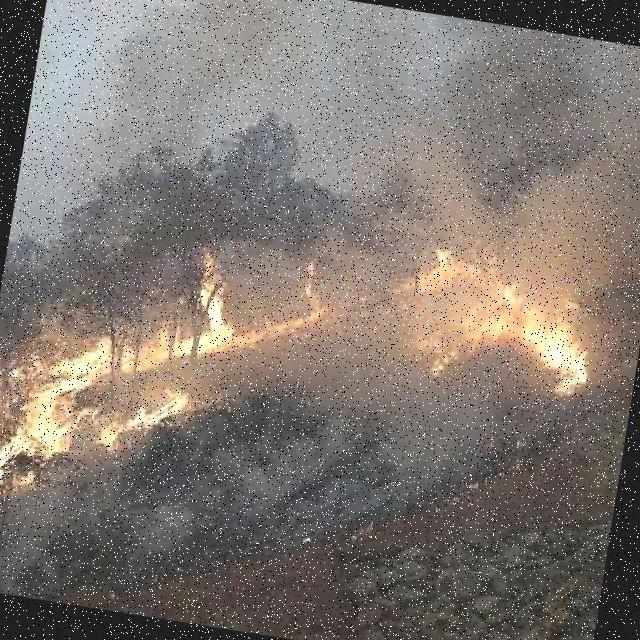fire: (0, 225, 341, 543), (400, 235, 614, 410)
smoke: (179, 326, 547, 548), (408, 20, 613, 270), (0, 469, 299, 635)
